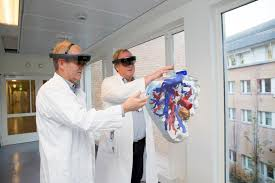hololens: (49, 50, 92, 69), (111, 56, 137, 67)
